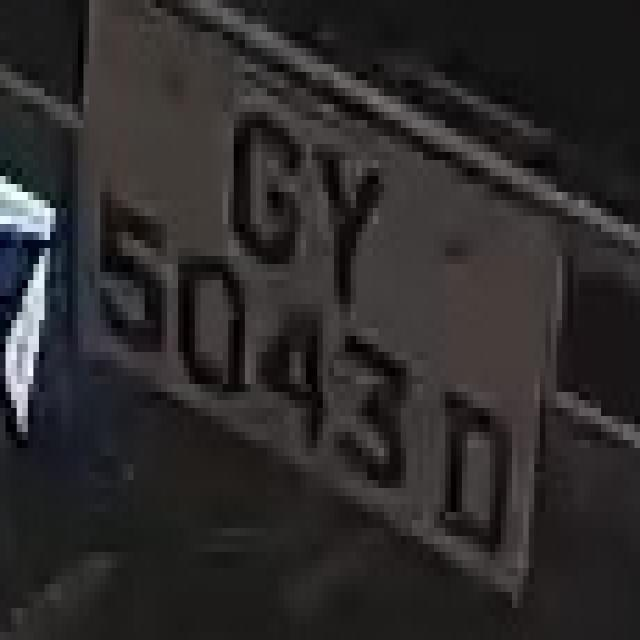0: (172, 192, 250, 432)
3: (317, 272, 412, 528)
4: (256, 264, 328, 480)
5: (89, 160, 178, 376)
D: (412, 360, 517, 544)
G: (223, 80, 306, 280)
Y: (295, 96, 390, 328)
